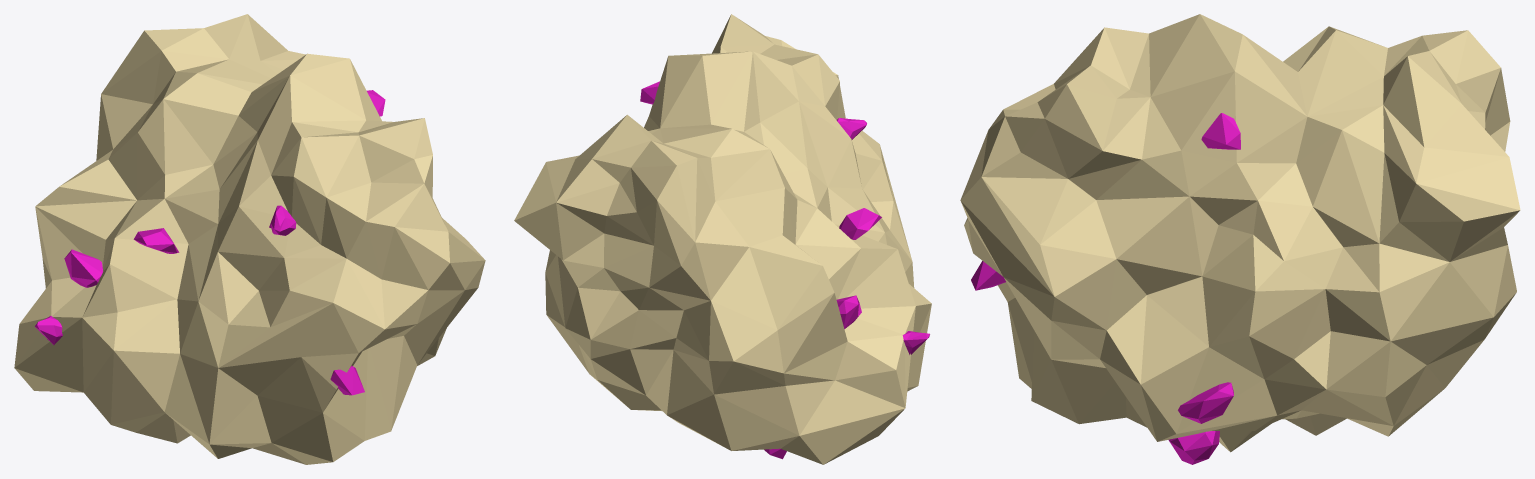
Rendered from CrystalOre (59).fbx.
3 views of the same model, side by side, from view 1: azimuth 30°, elevation 25°; view 2: azimuth 150°, elevation 25°; view 3: azimuth 270°, elevation 25° (orthographic). The views are drawn at different scales.
Parts seen in each view (by area): view 1: Asteroid279; view 2: Asteroid279; view 3: Asteroid279.
Part boxes in pixels (<box>): Asteroid279: <box>14,14,485,464</box>; Asteroid279: <box>514,14,931,464</box>; Asteroid279: <box>960,14,1520,464</box>.
Size of the model in its own units: 356 by 326 by 379.
